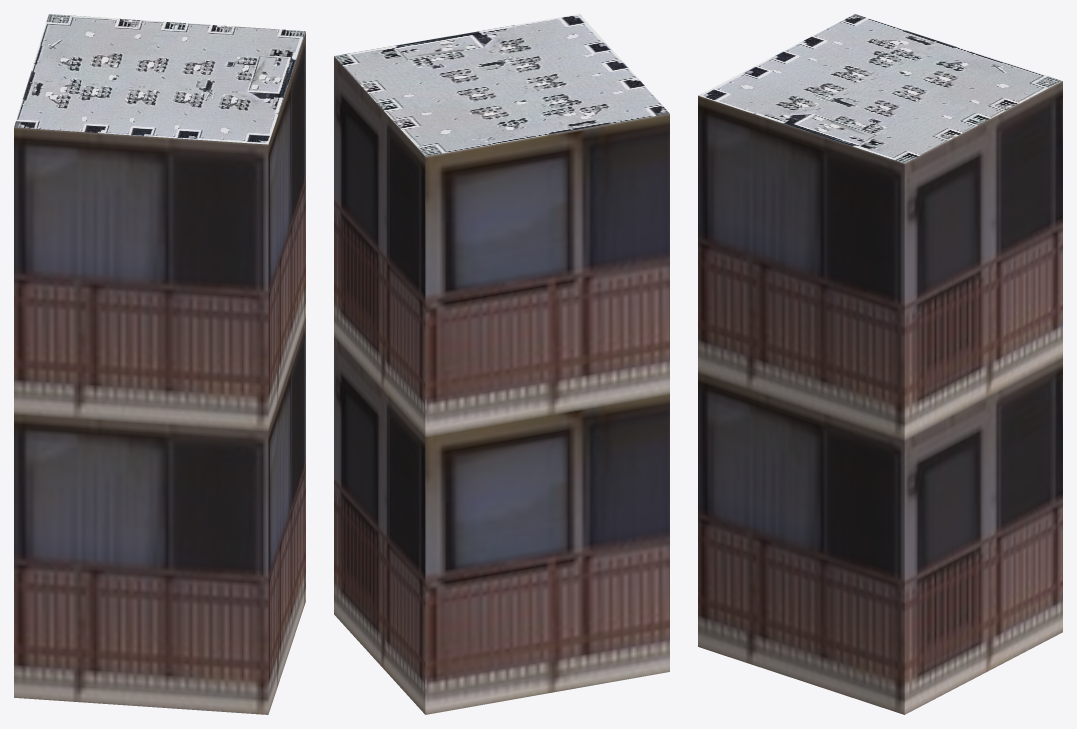
Rendered from ResTex__3197.fbx.
The picture shows the model from 3 angles, left to right: view 1: azimuth 30°, elevation 25°; view 2: azimuth 150°, elevation 25°; view 3: azimuth 270°, elevation 25°; orthographic projection. The views are drawn at different scales.
Visible parts, largest first — view 1: CityEngineMaterial_6_m, CityEngineMaterial_4_m; view 2: CityEngineMaterial_6_m, CityEngineMaterial_4_m; view 3: CityEngineMaterial_6_m, CityEngineMaterial_4_m.
Part boxes in pixels (box(x1,y1,x2,y2)): CityEngineMaterial_6_m: box(14, 32, 305, 714); CityEngineMaterial_4_m: box(14, 14, 305, 144); CityEngineMaterial_6_m: box(334, 56, 669, 714); CityEngineMaterial_4_m: box(334, 14, 669, 156); CityEngineMaterial_6_m: box(698, 81, 1062, 714); CityEngineMaterial_4_m: box(698, 14, 1062, 163).
Bounding box in the file's own units: 3.5 × 6 × 3.6.
Materials: 2 (2 with a texture image).
